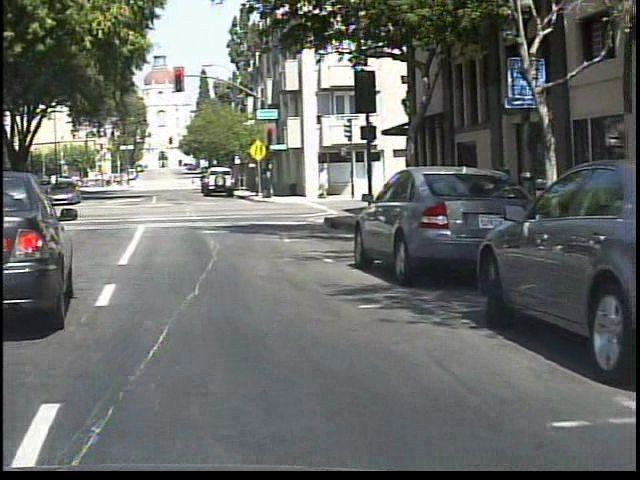person: (11, 172, 32, 212), (186, 175, 200, 192), (2, 175, 4, 212)
